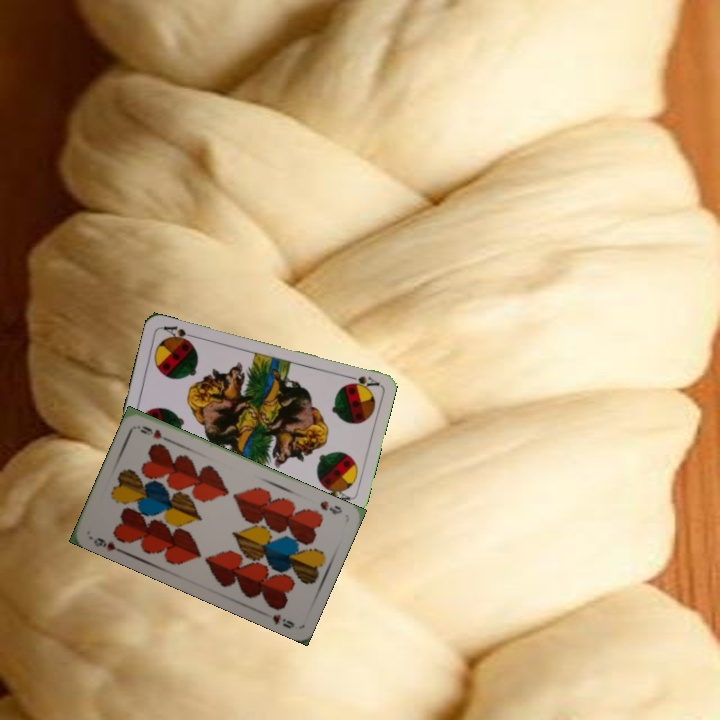H9: (86, 532, 125, 555), (316, 497, 345, 517)
SA: (341, 371, 381, 390)
